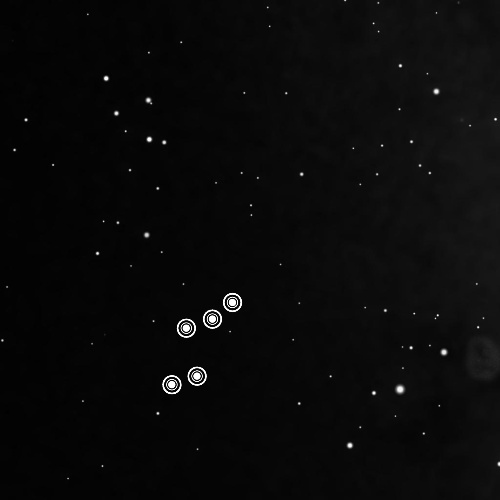lyra: (150, 279, 248, 404)
